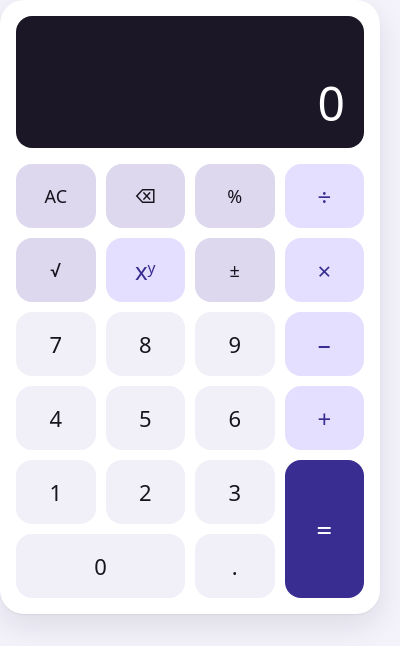
Test: <Calculator /> › chains operations left to right
The width and height of the screenshot is (400, 646).
Click the button "2". click: (145, 492)
box: [106,460,185,524]
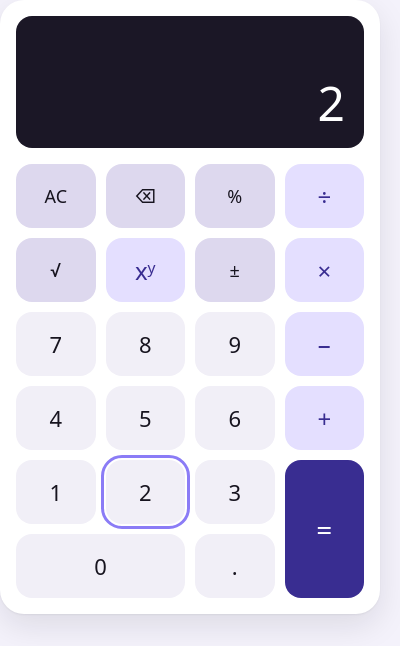
Click the button named "Add". click: (324, 418)
box: [284,386,364,450]
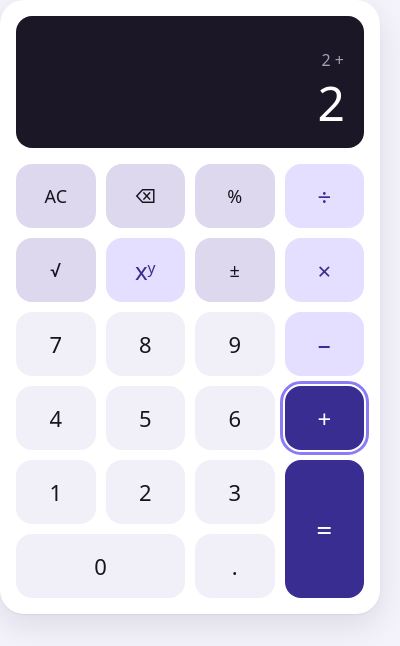
Click the button "3". click: (235, 492)
box: [195,460,274,524]
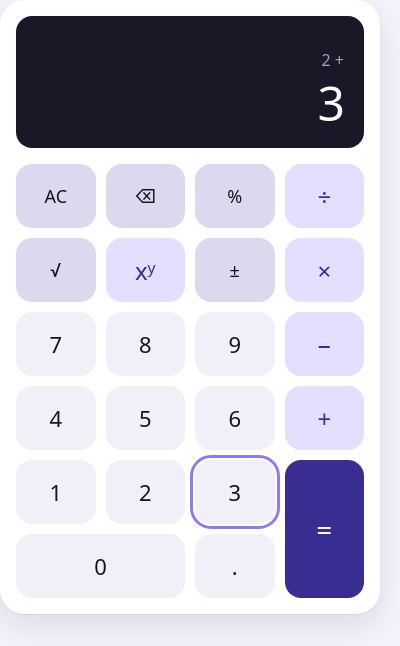
Click the button named "Multiply". click: (324, 270)
box: [284,238,364,302]
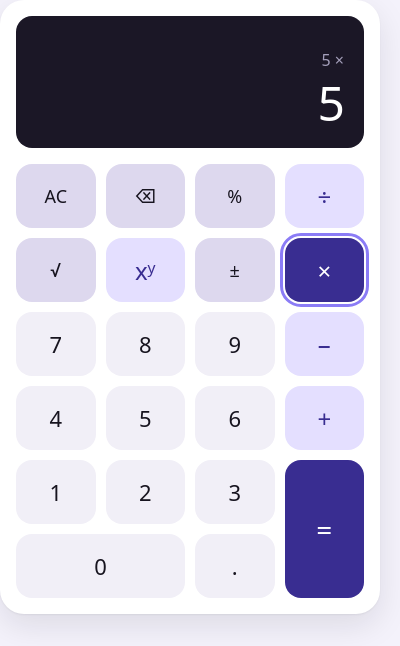
Check: the text with test id "expression" reads "5 ×", box [322,49,344,71]
Click the button "4". click: (56, 418)
box: [16,386,96,450]
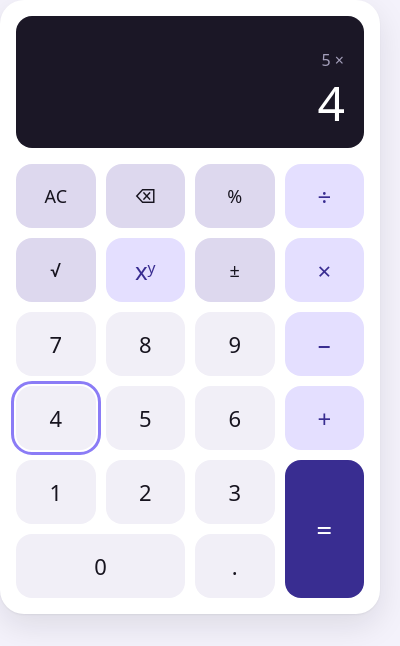
Click the button named "Equals". click: (324, 529)
box: [284,460,364,598]
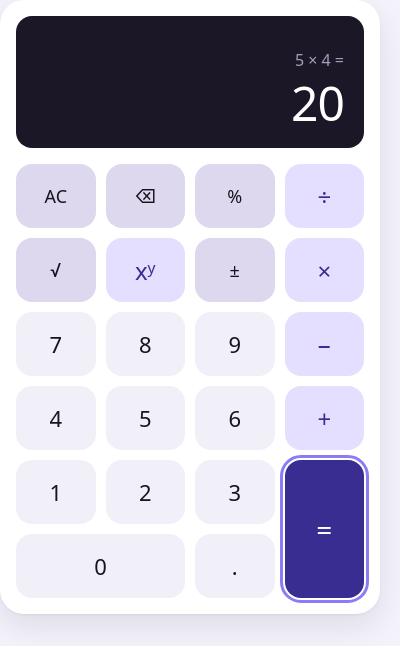
Check: the text with test id "display-value" reads "20", box [291,70,344,135]
